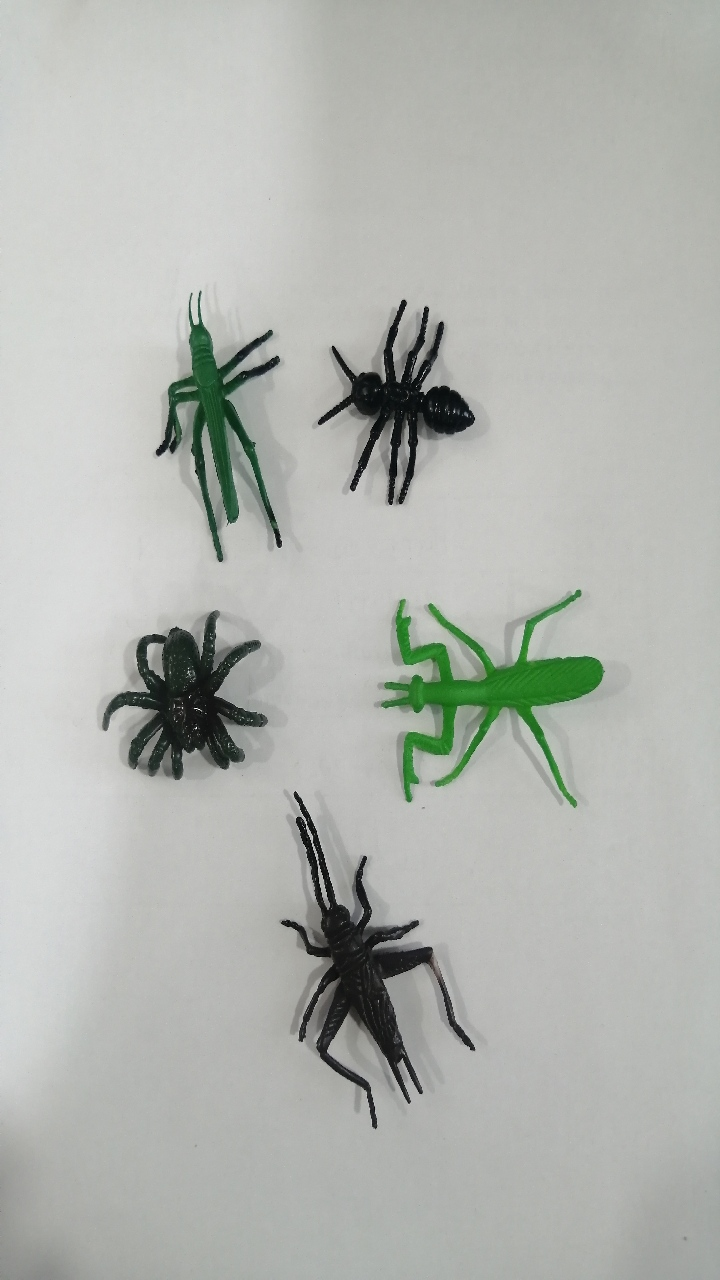intruso: (235, 774, 497, 1151), (351, 565, 646, 840), (101, 269, 317, 600), (303, 254, 494, 531), (69, 566, 284, 805)
